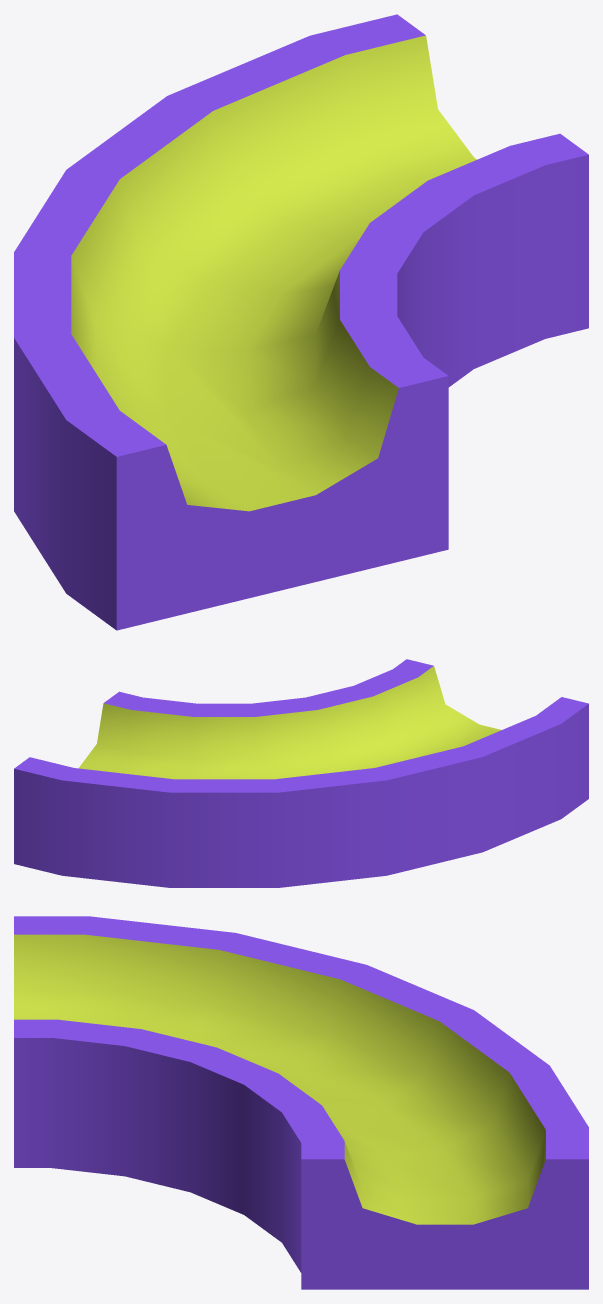
The picture shows the model from 3 angles, top to bottom: view 1: azimuth 30°, elevation 25°; view 2: azimuth 150°, elevation 25°; view 3: azimuth 270°, elevation 25°; orthographic projection. The views are drawn at different scales.
Parts seen in each view (by area): view 1: curve; view 2: curve; view 3: curve.
Boxes of the visible parts, x1=… form: curve: x1=14, y1=14, x2=588, y2=630; curve: x1=14, y1=659, x2=588, y2=887; curve: x1=14, y1=916, x2=588, y2=1289.
Bounding box in the file's own units: 2 × 0.5 × 2.
